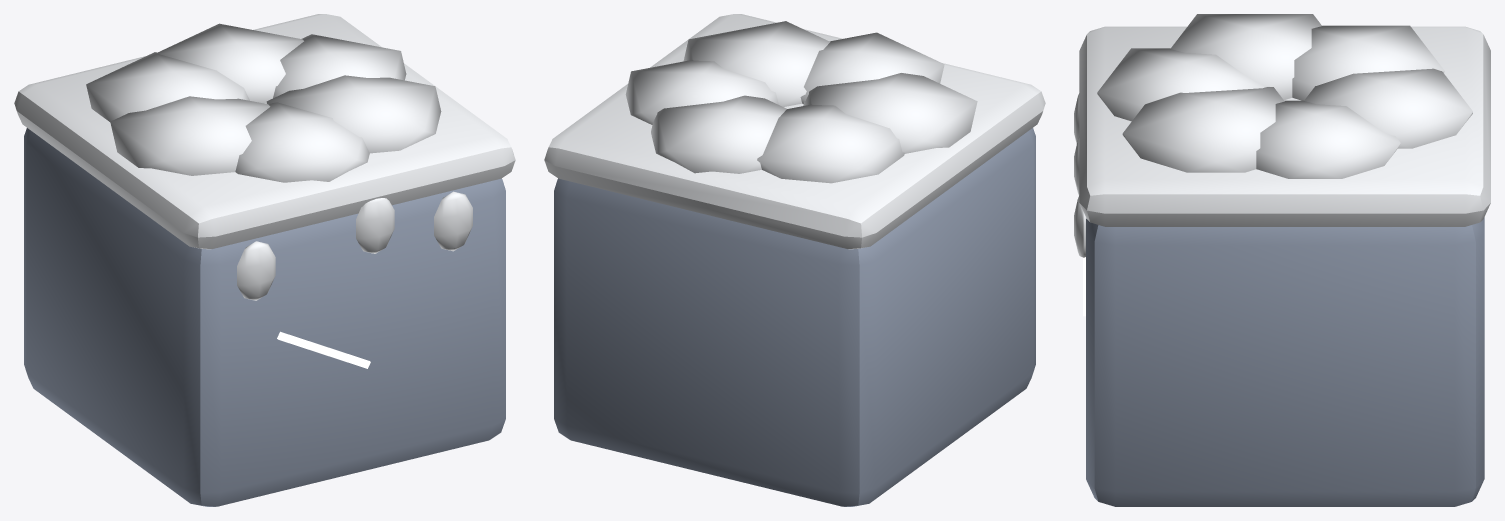
File: pillar_ice.glb
3 views of the same model, side by side, from view 1: azimuth 30°, elevation 25°; view 2: azimuth 150°, elevation 25°; view 3: azimuth 270°, elevation 25° (orthographic). The views are drawn at different scales.
Visible parts, largest first — view 1: pillar_ice; view 2: pillar_ice; view 3: pillar_ice.
Part boxes in pixels (bbox=[...]): pillar_ice: bbox=[14, 14, 515, 506]; pillar_ice: bbox=[544, 14, 1045, 506]; pillar_ice: bbox=[1074, 14, 1490, 506].
Bounding box in the file's own units: 0.97 × 0.9466 × 0.9828.
